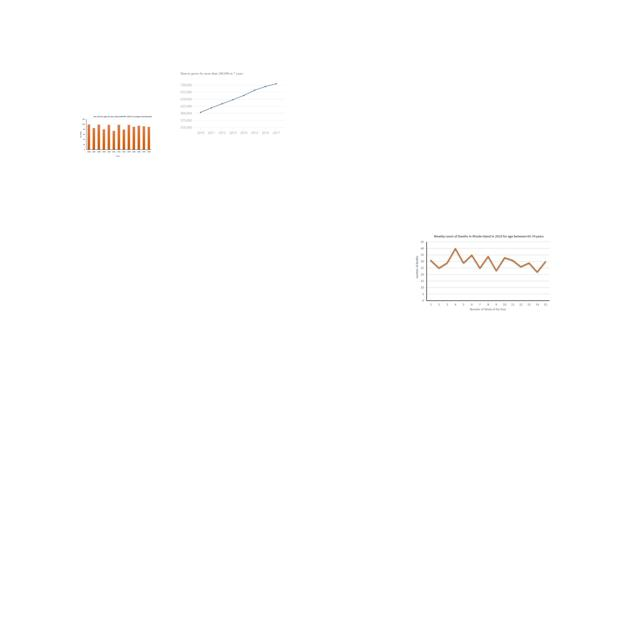Graph: (412, 231, 553, 315), (180, 71, 285, 137), (79, 114, 153, 158)
